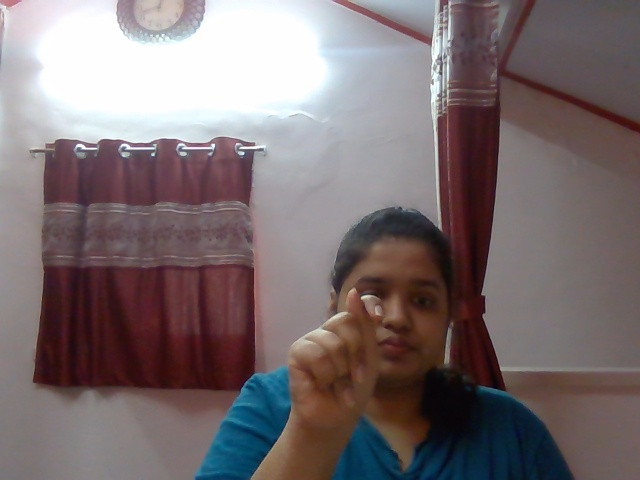t: (271, 279, 403, 441)
